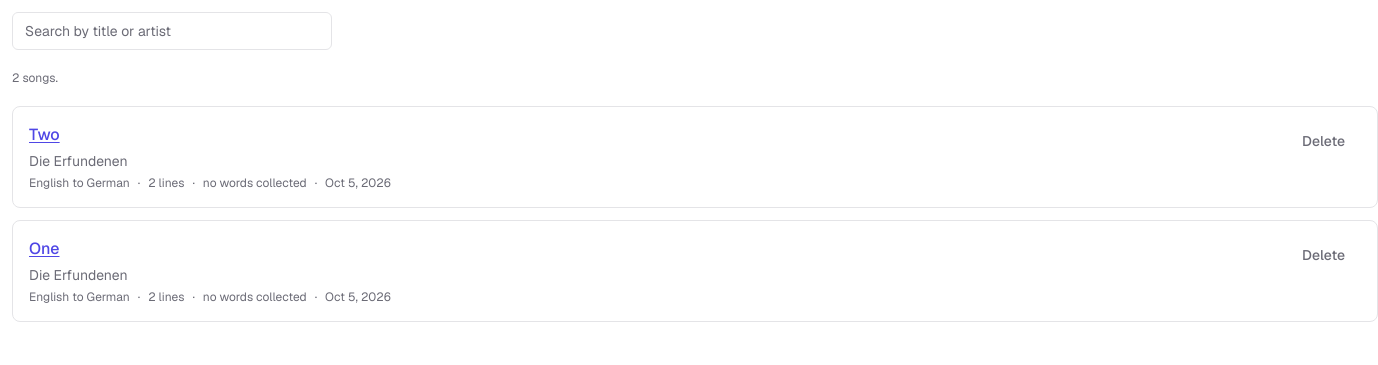
SongLibrary › deleting › only asks about one song at a time
This screenshot has width=1378, height=365.
Check: the number of list items is 2, box [12,106,1377,208]; [12,220,1377,322]
Step 1. Click the button with aria-label "Delete One" → (1323, 255), box [1286,237,1361,273]
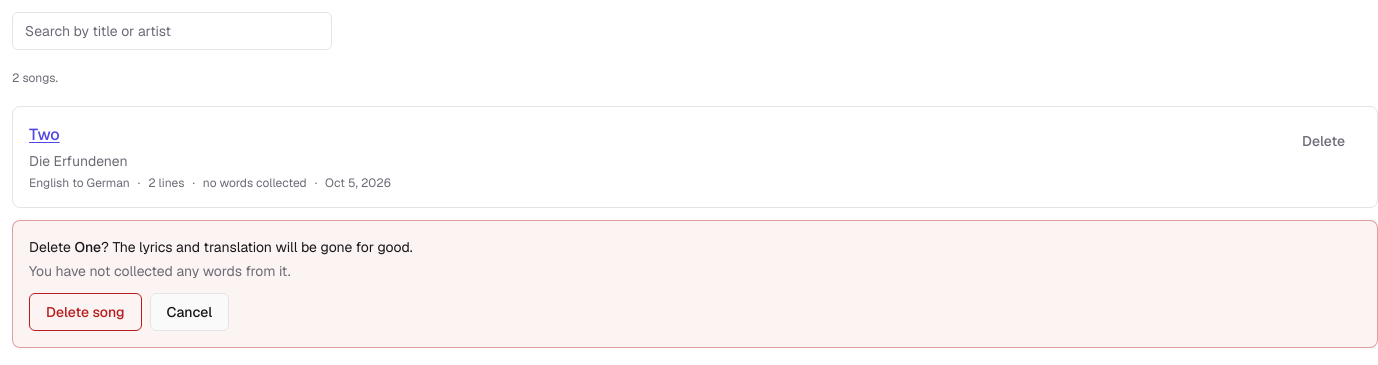
Check: the number of buttons "Delete song" is 1, box [29,293,142,331]
